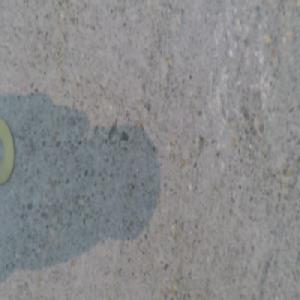Washer: (0, 118, 17, 183)
